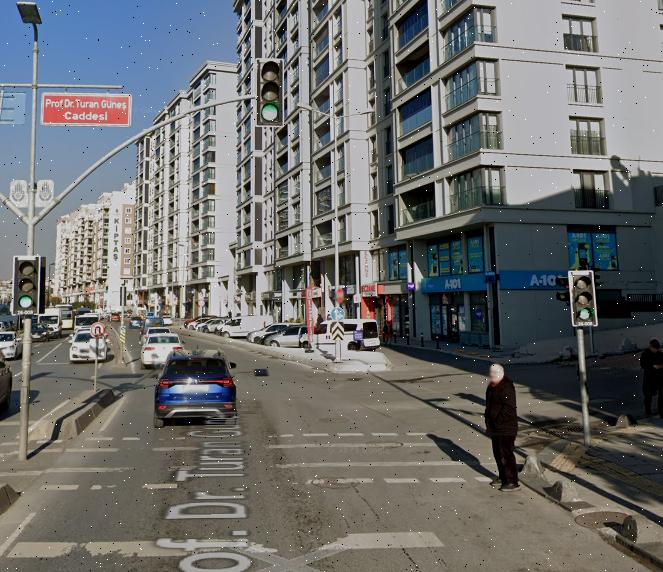greenlight: (567, 268, 599, 329), (260, 60, 281, 119), (15, 257, 36, 307)
